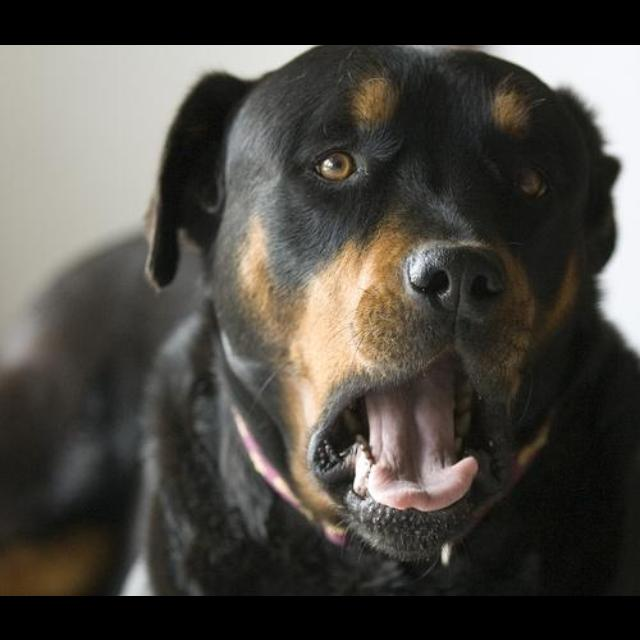rottweiler: (1, 45, 639, 595)
